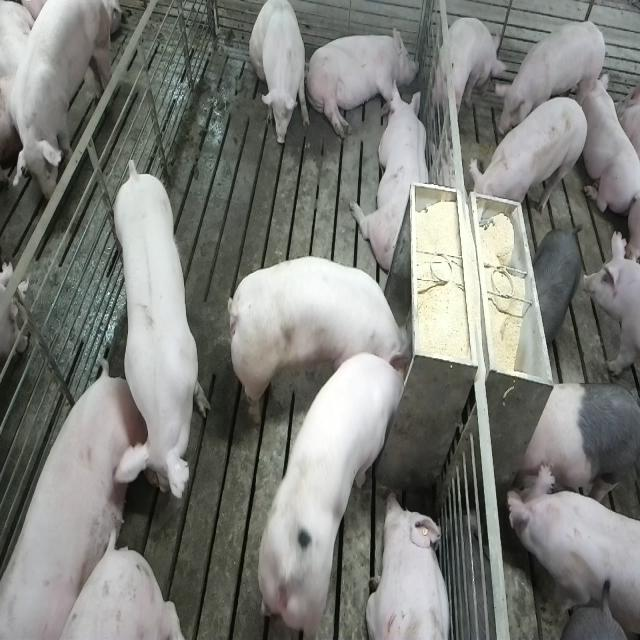Feeding: (257, 350, 410, 634), (223, 254, 412, 431)
Lateral_lying: (304, 22, 418, 141)
Sitting: (250, 0, 308, 148)
Standing: (110, 154, 211, 513), (0, 0, 114, 220), (504, 460, 638, 638), (514, 381, 637, 517), (470, 93, 590, 223), (495, 21, 609, 147), (436, 15, 511, 129), (532, 228, 582, 347)
Sternal_lying: (353, 79, 432, 275), (368, 490, 454, 640), (578, 70, 637, 220)
